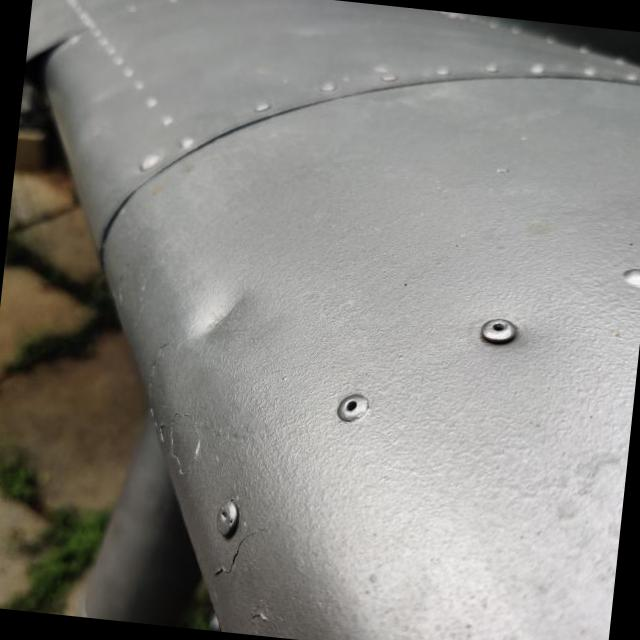Dent: (166, 273, 266, 365)
